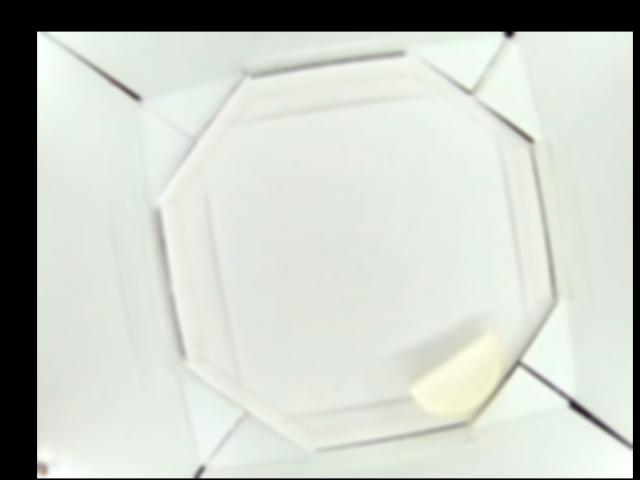Mooli: (413, 326, 496, 412)
